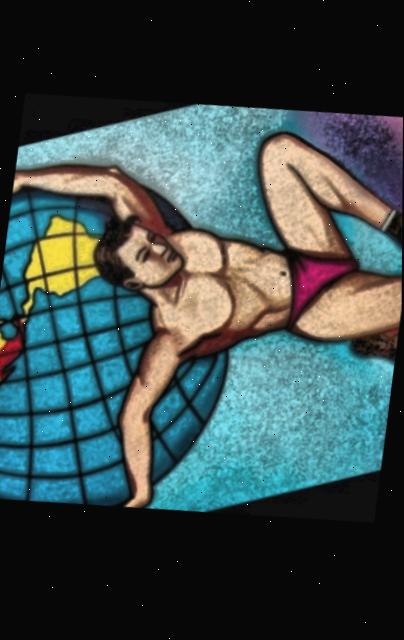El Mundo: (0, 108, 403, 512)
